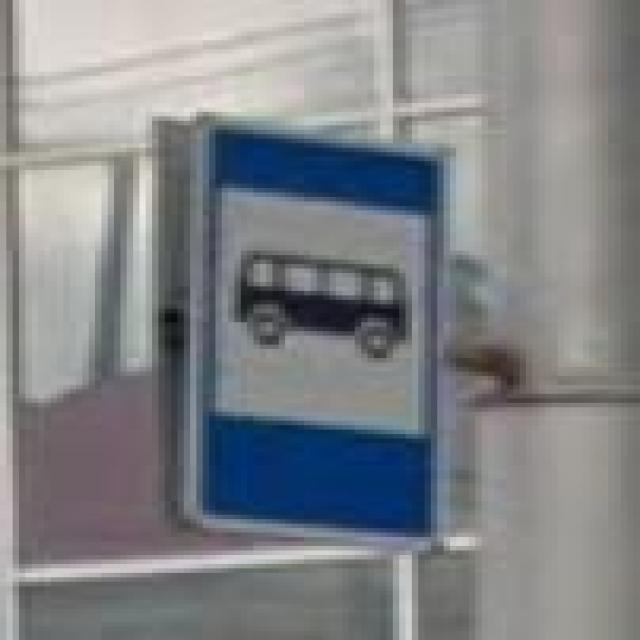bus_stop: (184, 117, 450, 550)
